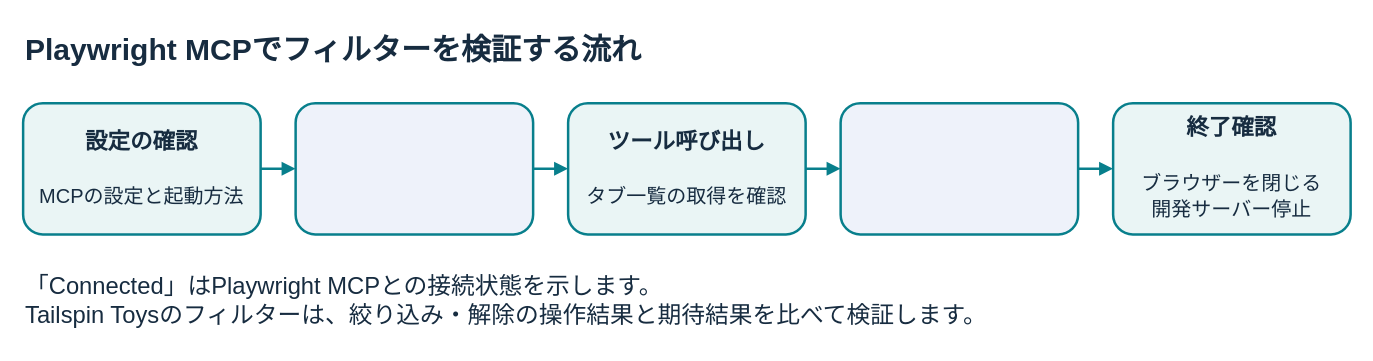
Image size: 1373x361. Some labels were removed from this diagram. Each missing label, with the centre of its shape:
"フィルターの動作 絞り込み・解除の結果" goes at [959,168].
"接続状態 PlaywrightのConnected" goes at [414,168].
